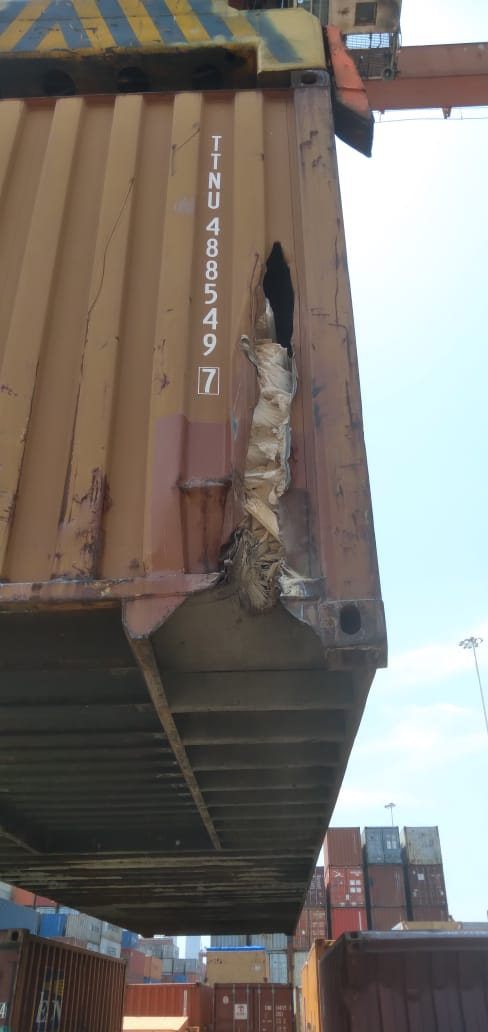cut: (219, 233, 311, 592)
